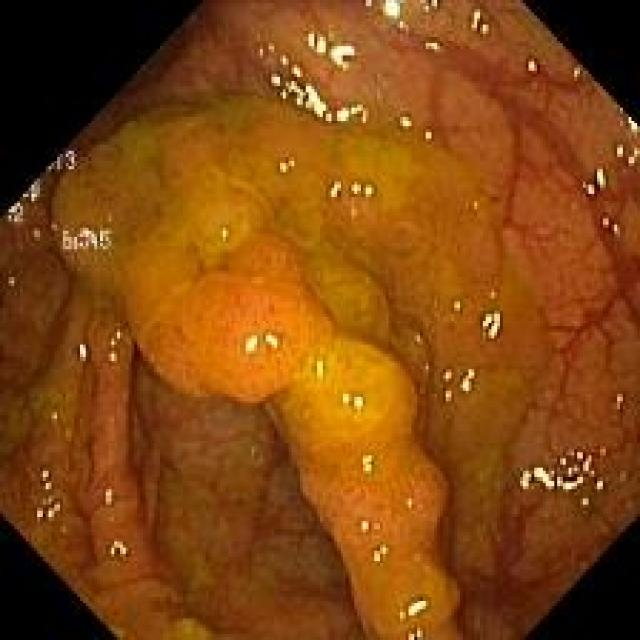Polyps: (52, 97, 461, 639)
